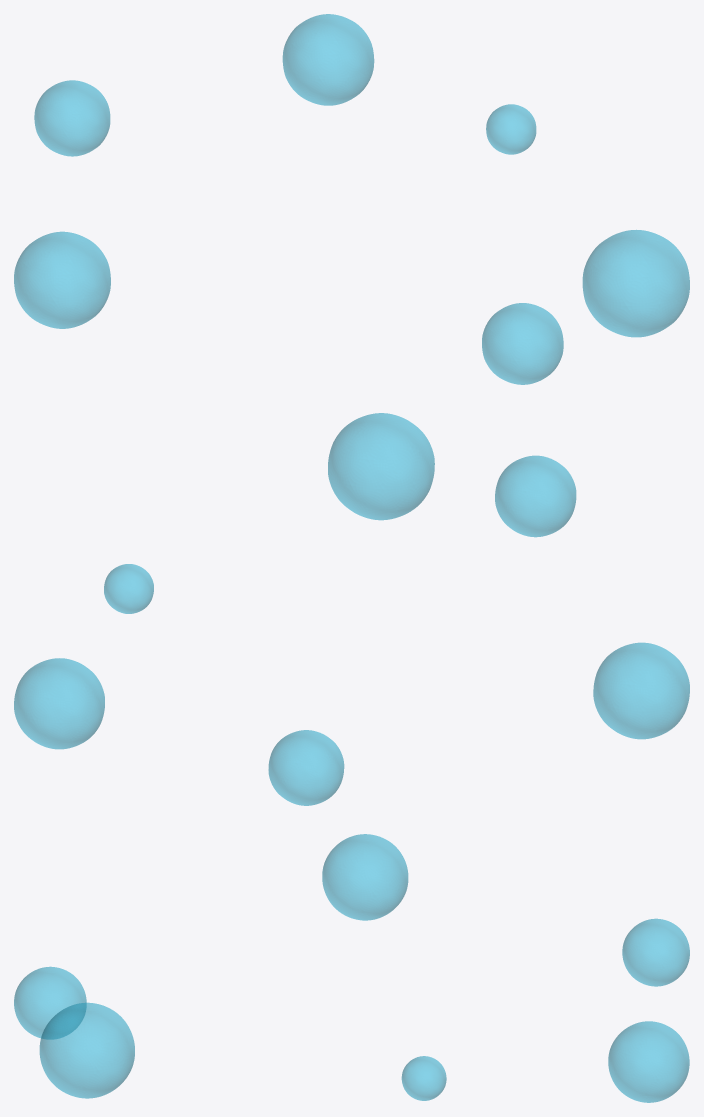
The model's file is waterSky001_01.fbx.
The picture shows the model from 3 angles, top to bottom: view 1: azimuth 30°, elevation 25°; view 2: azimuth 150°, elevation 25°; view 3: azimuth 270°, elevation 25°; orthographic projection. The views are drawn at different scales.
Visible parts, largest first — view 1: waterSky001.001; view 2: waterSky001.001; view 3: waterSky001.001.
Part boxes in pixels (box(x1,y1,x2,y2)): waterSky001.001: box(14, 14, 689, 384); waterSky001.001: box(14, 413, 689, 805); waterSky001.001: box(14, 834, 689, 1102).
Bounding box in the file's own units: 129 × 23.07 × 155.
